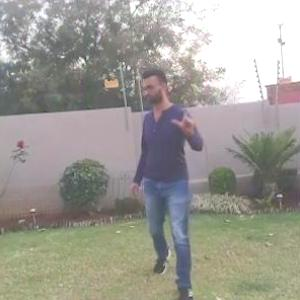land_hand: (167, 97, 200, 135)
